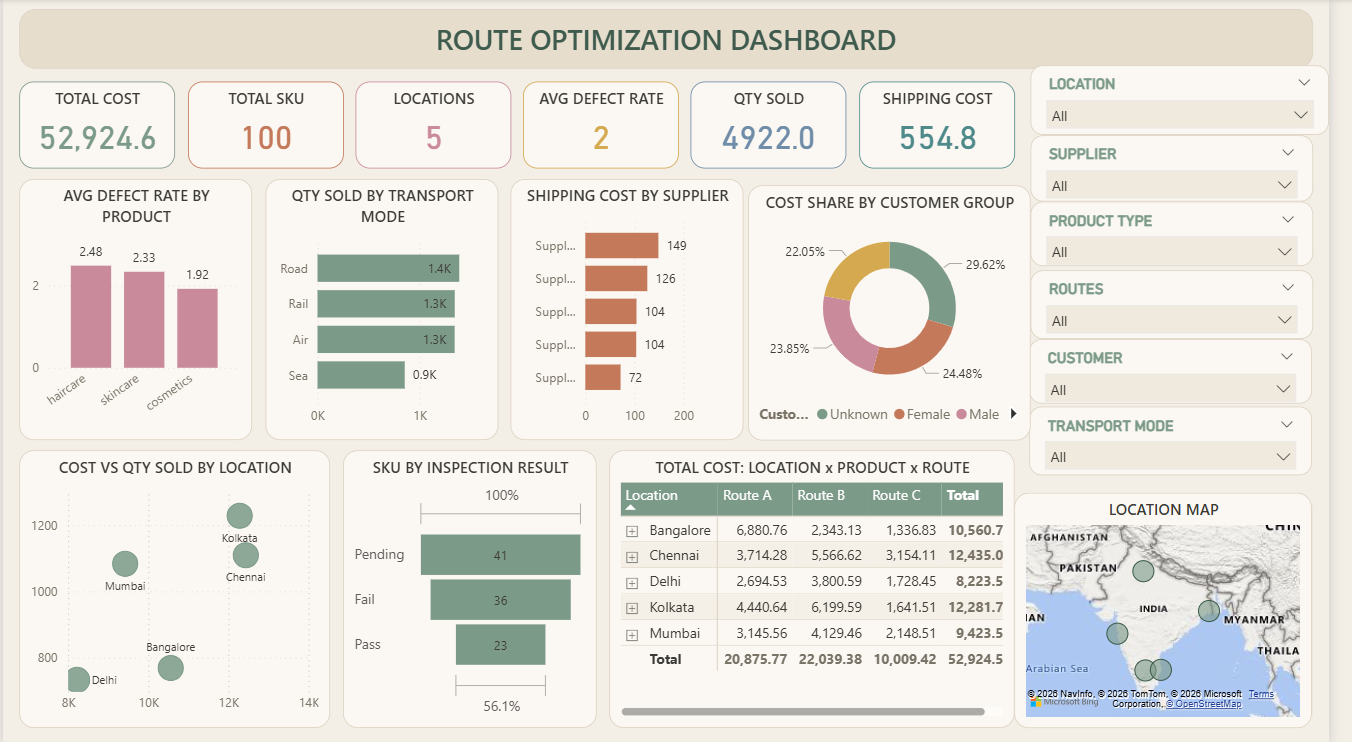

The page's visual inventory and layout, read from the dashboard file:
{"tool":"powerbi","page":{"name":"Supply Data","canvas":[1280,720],"ordinal":0},"visuals":[{"type":"textbox","box":[15.7,9.7,1248.7,57.9],"z":0},{"type":"card","title":"TOTAL COST","fields":{"Values":["supply_chain_data.total_cost"]},"box":[16,80,150,84],"z":1000},{"type":"card","title":"TOTAL SKU","fields":{"Values":["supply_chain_data.total_sku"]},"box":[178,80,150,84],"z":2000},{"type":"card","title":"LOCATIONS","fields":{"Values":["supply_chain_data.total location"]},"box":[340,80,150,84],"z":3000},{"type":"card","title":"AVG DEFECT RATE","fields":{"Values":["supply_chain_data.avg_defectrate"]},"box":[502,80,150,84],"z":4000},{"type":"card","title":"QTY SOLD","fields":{"Values":["supply_chain_data.total quantity sold"]},"box":[664,80,150,84],"z":5000},{"type":"card","title":"SHIPPING COST","fields":{"Values":["supply_chain_data.total shipping cost"]},"box":[826,80,150,84],"z":6000},{"type":"columnChart","title":"AVG DEFECT RATE BY PRODUCT","fields":{"Category":["supply_chain_data.Product type"],"Y":["supply_chain_data.avg_defectrate"]},"box":[16,174,225,252],"z":7000},{"type":"clusteredBarChart","title":"QTY SOLD BY TRANSPORT MODE","fields":{"Category":["supply_chain_data.Transportation modes"],"Y":["supply_chain_data.total quantity sold"]},"box":[253,174,225,252],"z":8000},{"type":"clusteredBarChart","title":"SHIPPING COST BY SUPPLIER","fields":{"Category":["supply_chain_data.Supplier name"],"Y":["supply_chain_data.total shipping cost"]},"box":[490,174,225,252],"z":9000},{"type":"map","title":"LOCATION MAP","fields":{"Category":["supply_chain_data.Location"]},"box":[976,476.5,287.1,226.8],"z":10000},{"type":"scatterChart","title":"COST VS QTY SOLD BY LOCATION","fields":{"X":["supply_chain_data.total_cost"],"Y":["supply_chain_data.total quantity sold"],"Category":["supply_chain_data.Location"]},"box":[16,436,300,268],"z":11000},{"type":"funnel","title":"SKU BY INSPECTION RESULT","fields":{"Category":["supply_chain_data.Inspection results"],"Y":["supply_chain_data.total_sku"]},"box":[328,436,245,268],"z":12000},{"type":"pivotTable","title":"TOTAL COST: LOCATION x PRODUCT x ROUTE","fields":{"Rows":["supply_chain_data.Location","supply_chain_data.Product type"],"Columns":["supply_chain_data.Routes"],"Values":["supply_chain_data.total_cost"]},"box":[585,436,391,268],"z":13000},{"type":"slicer","fields":{"Values":["supply_chain_data.Location"]},"box":[991.7,63.9,288.3,67.6],"z":14000},{"type":"slicer","fields":{"Values":["supply_chain_data.Supplier name"]},"box":[991.7,131.5,272.7,63.9],"z":15000},{"type":"slicer","fields":{"Values":["supply_chain_data.Product type"]},"box":[991.7,195.4,272.7,62.7],"z":16000},{"type":"slicer","fields":{"Values":["supply_chain_data.Routes"]},"box":[991.7,261.8,272.7,66.4],"z":17000},{"type":"slicer","fields":{"Values":["supply_chain_data.Customer demographics"]},"box":[990.5,328.2,272.7,62.7],"z":18000},{"type":"slicer","fields":{"Values":["supply_chain_data.Transportation modes"]},"box":[990.5,393.3,272.7,66.4],"z":19000},{"type":"donutChart","title":"COST SHARE BY CUSTOMER GROUP","fields":{"Category":["supply_chain_data.Customer demographics"],"Y":["supply_chain_data.total_cost"]},"box":[719,179.8,272.7,246.1],"z":20000}]}

Visuals, with their boxes in screenshot pixels (x1, y1, x2, y2), scaled from the page's 1280x720 canvas onto the 1352x742 screenshot:
textbox: <region>17, 10, 1336, 70</region>
"TOTAL COST" card: <region>17, 82, 175, 169</region>
"TOTAL SKU" card: <region>188, 82, 346, 169</region>
"LOCATIONS" card: <region>359, 82, 518, 169</region>
"AVG DEFECT RATE" card: <region>530, 82, 689, 169</region>
"QTY SOLD" card: <region>701, 82, 860, 169</region>
"SHIPPING COST" card: <region>872, 82, 1031, 169</region>
"AVG DEFECT RATE BY PRODUCT" columnChart: <region>17, 179, 255, 439</region>
"QTY SOLD BY TRANSPORT MODE" clusteredBarChart: <region>267, 179, 505, 439</region>
"SHIPPING COST BY SUPPLIER" clusteredBarChart: <region>518, 179, 755, 439</region>
"LOCATION MAP" map: <region>1031, 491, 1334, 725</region>
"COST VS QTY SOLD BY LOCATION" scatterChart: <region>17, 449, 334, 726</region>
"SKU BY INSPECTION RESULT" funnel: <region>346, 449, 605, 726</region>
"TOTAL COST: LOCATION x PRODUCT x ROUTE" pivotTable: <region>618, 449, 1031, 726</region>
slicer - supply_chain_data.Location: <region>1047, 66, 1351, 136</region>
slicer - supply_chain_data.Supplier name: <region>1047, 136, 1336, 201</region>
slicer - supply_chain_data.Product type: <region>1047, 201, 1336, 266</region>
slicer - supply_chain_data.Routes: <region>1047, 270, 1336, 338</region>
slicer - supply_chain_data.Customer demographics: <region>1046, 338, 1334, 403</region>
slicer - supply_chain_data.Transportation modes: <region>1046, 405, 1334, 474</region>
"COST SHARE BY CUSTOMER GROUP" donutChart: <region>759, 185, 1047, 439</region>
